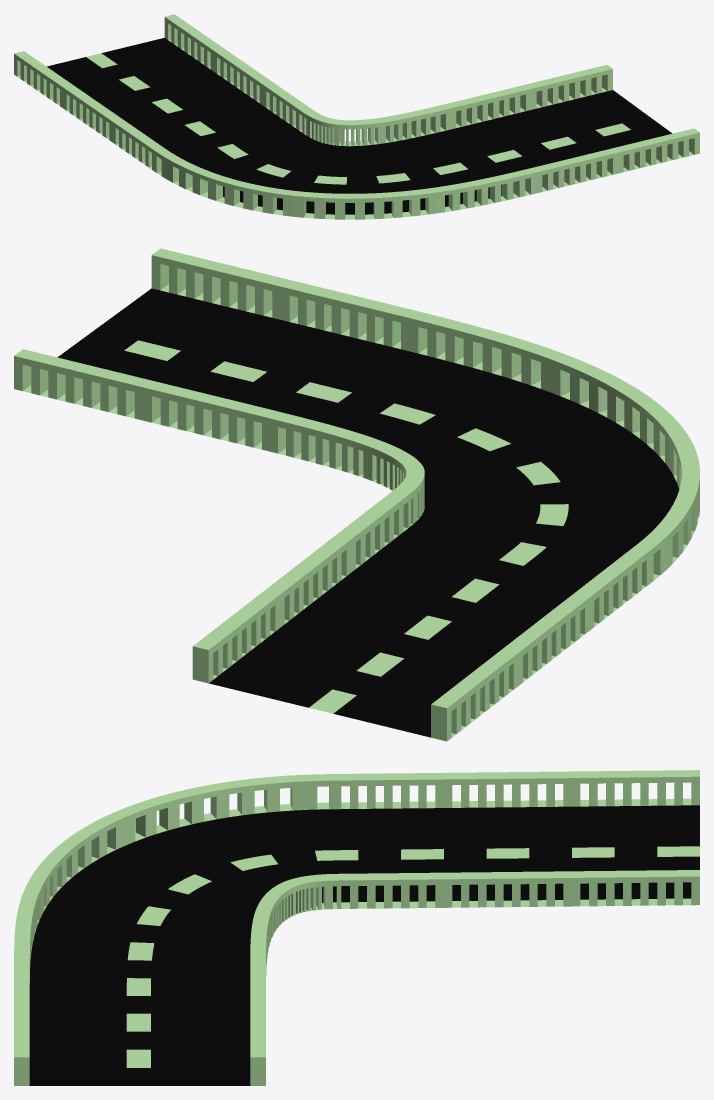
Rendered from Sci-fi_raceTrackLeft_Beta1.fbx.
The picture shows the model from 3 angles, top to bottom: view 1: azimuth 30°, elevation 25°; view 2: azimuth 150°, elevation 25°; view 3: azimuth 270°, elevation 25°; orthographic projection. The views are drawn at different scales.
Visible parts, largest first — view 1: Plane, LeftWall, RightWall; view 2: Plane, LeftWall, RightWall; view 3: Plane, LeftWall, RightWall.
Boxes of the visible parts, left/top/right/bottom form: Plane: left=47, top=38, right=672, bottom=214; LeftWall: left=14, top=51, right=699, bottom=219; RightWall: left=164, top=14, right=612, bottom=146; Plane: left=57, top=288, right=679, bottom=737; LeftWall: left=151, top=248, right=699, bottom=741; RightWall: left=14, top=349, right=424, bottom=683; Plane: left=29, top=805, right=699, bottom=1085; LeftWall: left=14, top=770, right=699, bottom=1085; RightWall: left=250, top=870, right=699, bottom=1085.
Bounding box in the file's own units: 2698 × 125 × 2723.
